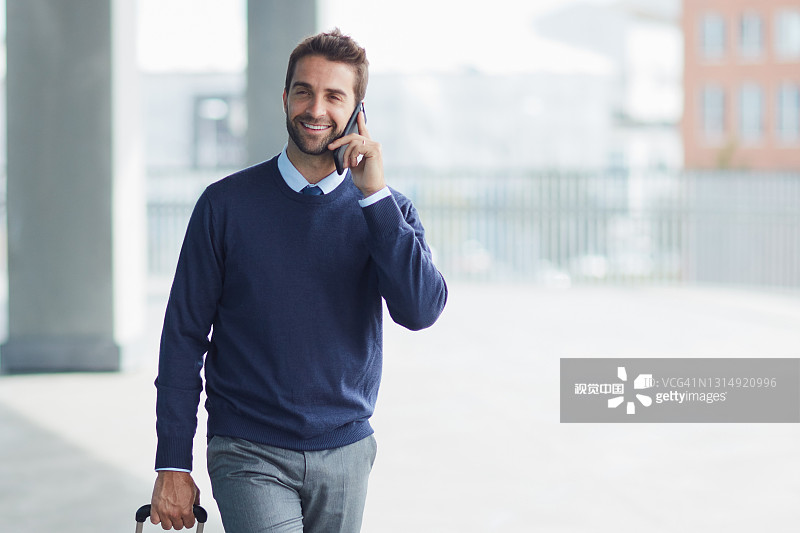calling: (321, 97, 397, 201)
no-phone: (133, 456, 211, 531)
